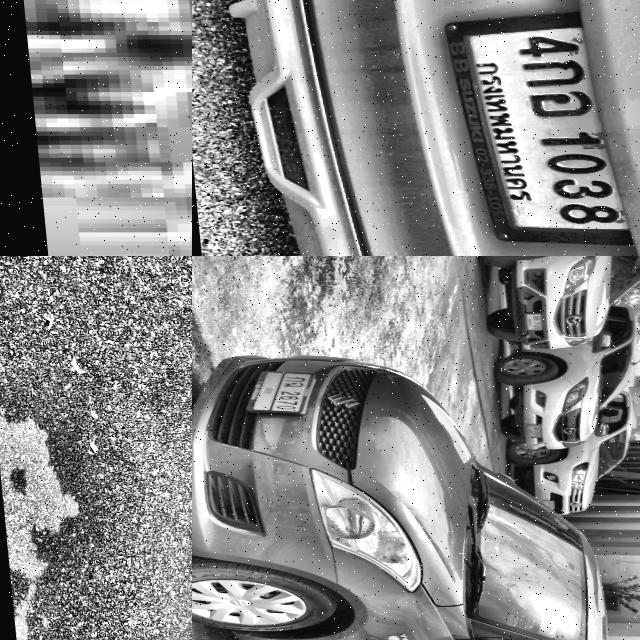license-plate: (0, 0, 192, 256), (433, 9, 635, 250), (237, 371, 316, 416), (520, 312, 545, 331), (520, 424, 539, 439), (533, 501, 550, 511)
